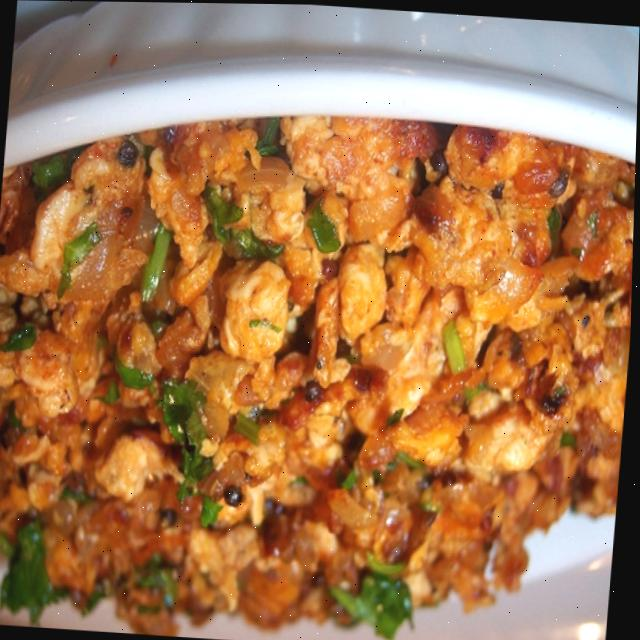鸡蛋料理: (0, 40, 639, 640)
